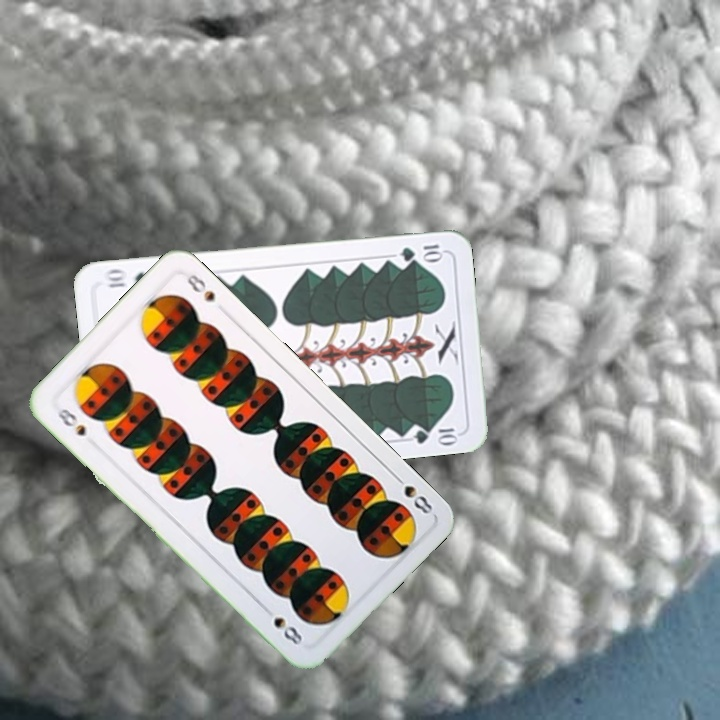G10: (396, 240, 446, 264)
S8: (389, 469, 436, 517), (53, 404, 89, 439)
